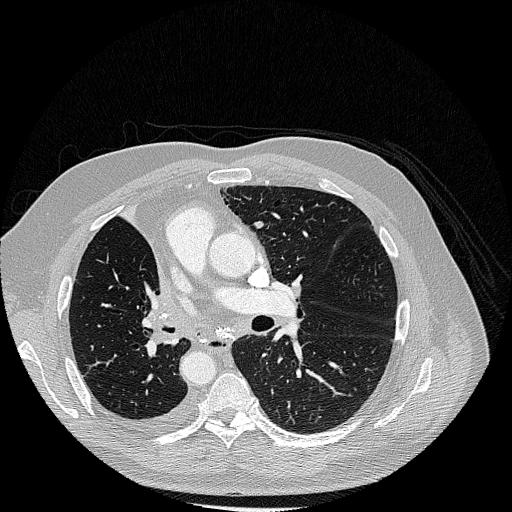nodule: (256, 218, 269, 231)
